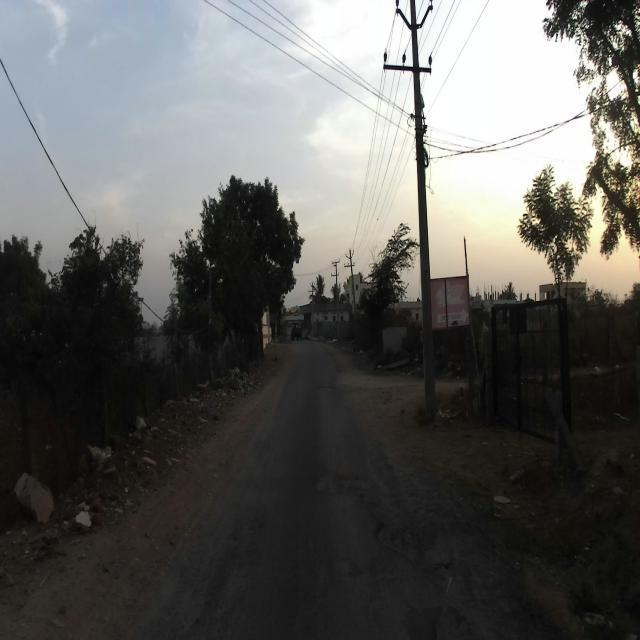Pothole: (367, 501, 419, 561), (404, 608, 462, 640), (314, 472, 366, 497)
